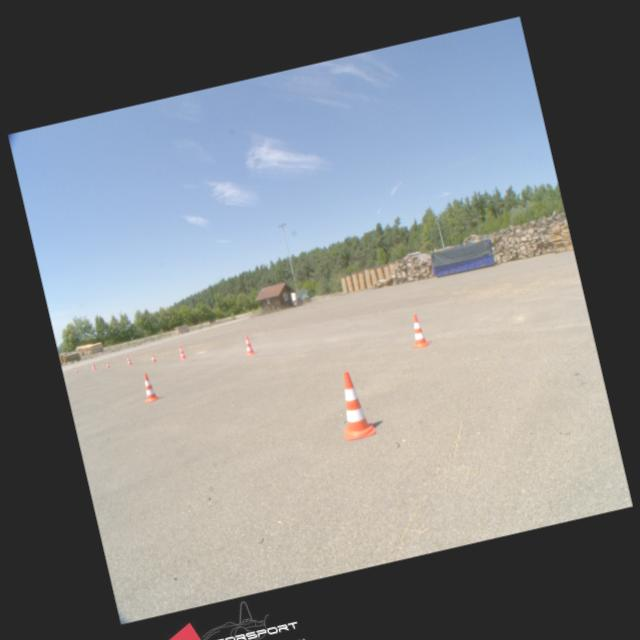large_orange_cone: (330, 367, 376, 441), (405, 312, 430, 349), (138, 371, 158, 402), (241, 334, 255, 356), (176, 344, 186, 360), (125, 354, 132, 365), (90, 361, 96, 370)
orange_cone: (150, 354, 156, 362), (105, 361, 110, 368)
